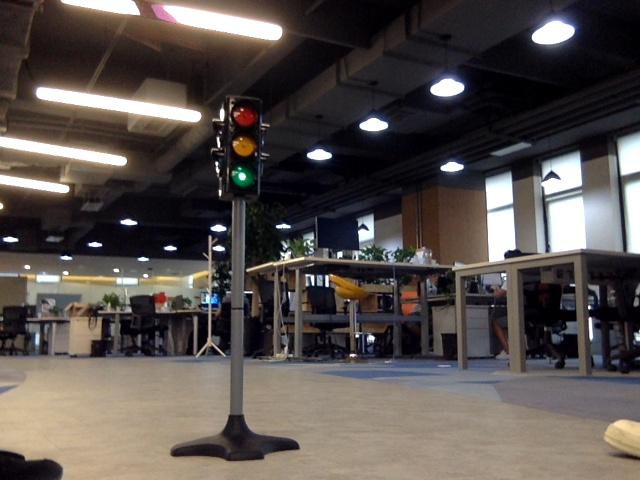green: (225, 97, 259, 196)
